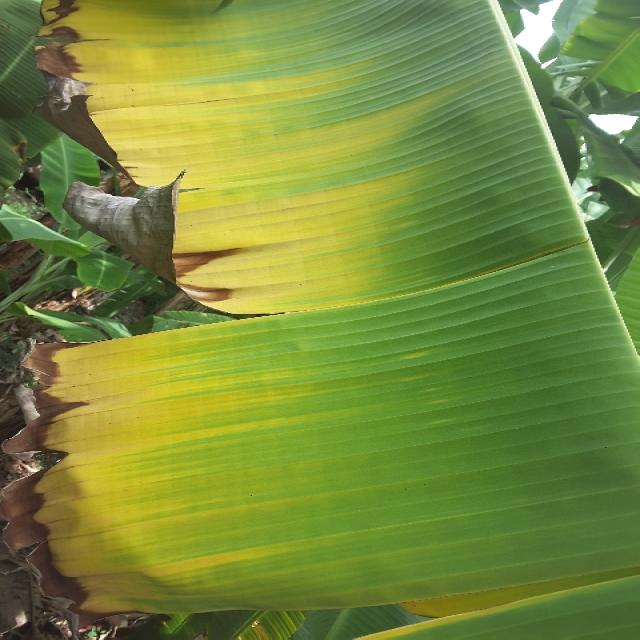Cordana: (31, 305, 616, 640), (23, 0, 536, 314)
